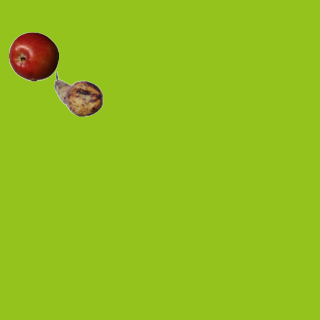Apple Braeburn: (8, 31, 58, 81)
Pear Abate: (53, 69, 103, 119)
